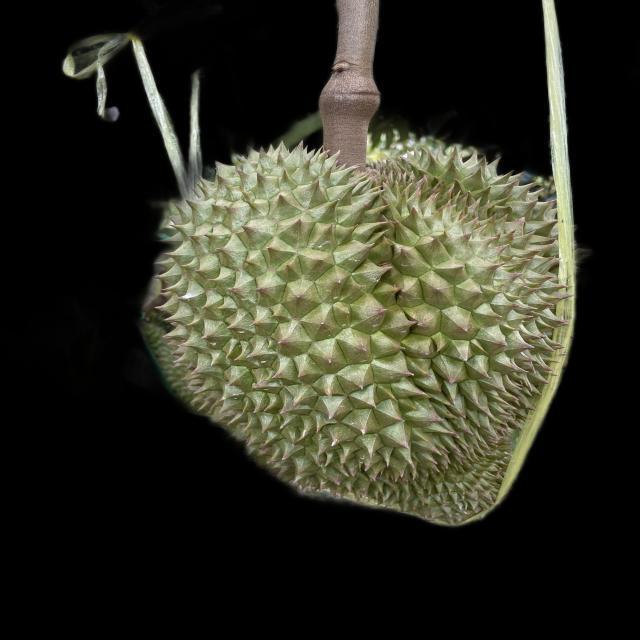immature: (154, 142, 550, 526)
